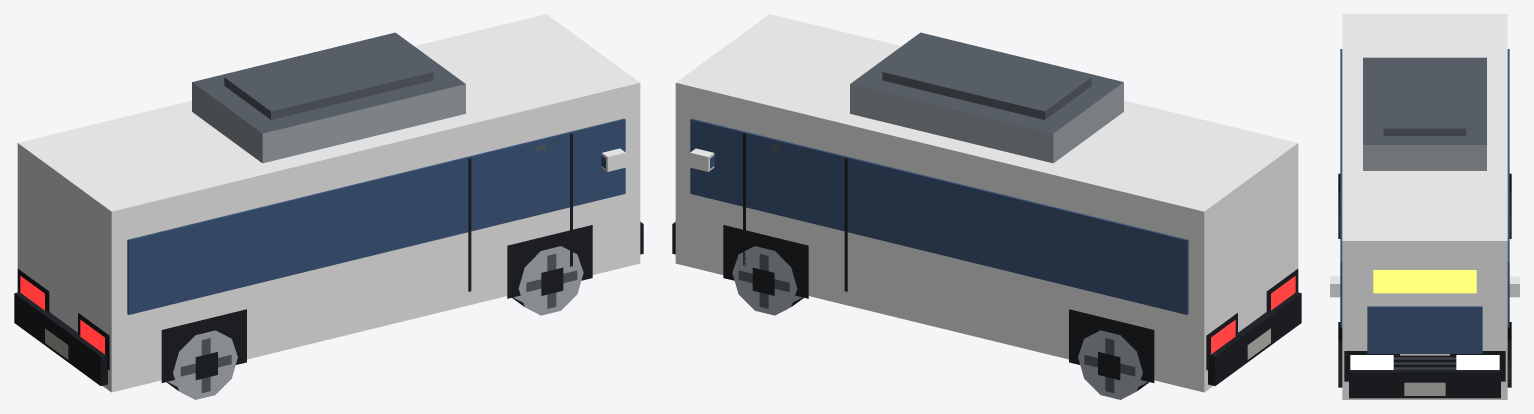
Rendered from bus_mini.glb.
3 views of the same model, side by side, from view 1: azimuth 30°, elevation 25°; view 2: azimuth 150°, elevation 25°; view 3: azimuth 270°, elevation 25° (orthographic). The views are drawn at different scales.
Visible parts, largest first — view 1: bus_mini; view 2: bus_mini; view 3: bus_mini.
Part boxes in pixels (x1=…): bus_mini: x1=14, y1=14, x2=643, y2=399; bus_mini: x1=672, y1=14, x2=1301, y2=399; bus_mini: x1=1330, y1=14, x2=1519, y2=399.
Size of the model in its own units: 0.5356 by 0.23 by 0.184.
